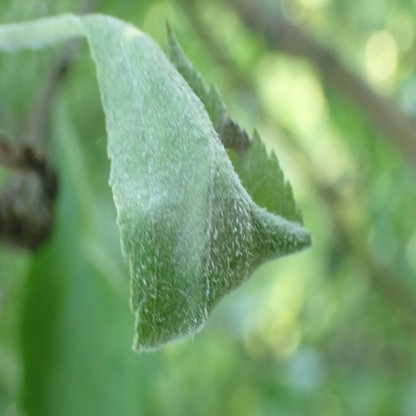powder: (72, 13, 313, 353)
